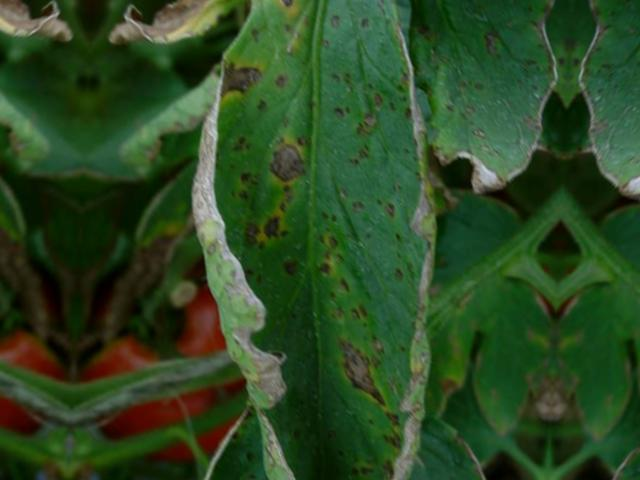Tomato Septoria leaf spot: (156, 0, 565, 480)
